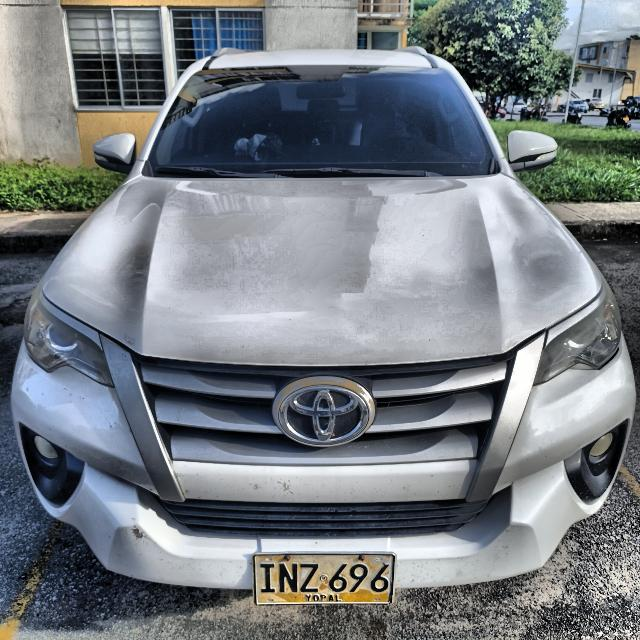plate: (254, 554, 394, 604)
